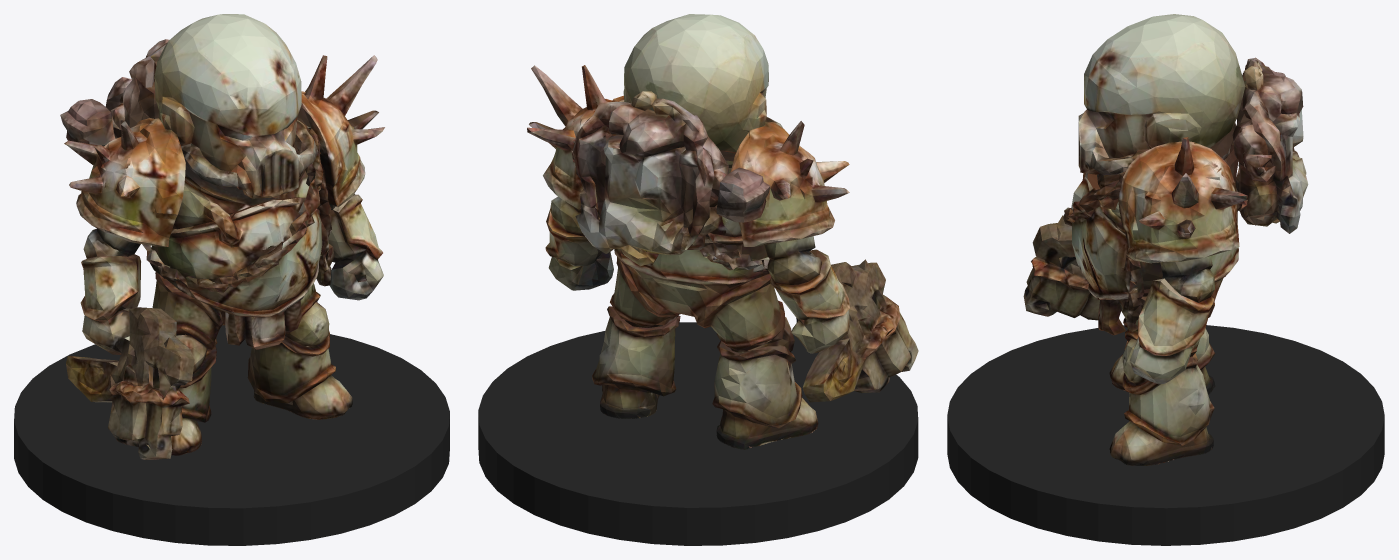
The model's file is pm-plague-marine-fighter.glb.
3 renders of one model, left to right at view 1: azimuth 30°, elevation 25°; view 2: azimuth 150°, elevation 25°; view 3: azimuth 270°, elevation 25°, orthographic.
Parts seen in each view (by area): view 1: figure, base; view 2: figure, base; view 3: figure, base.
Part boxes in pixels (x1,y1,x2,y2): figure: (60, 14, 384, 459); base: (14, 325, 449, 545); figure: (527, 14, 918, 449); base: (478, 322, 918, 545); figure: (1023, 14, 1308, 465); base: (947, 325, 1384, 545).
Bounding box in the file's own units: 1.26 × 1.37 × 1.26.
2 materials, 1 textured.
